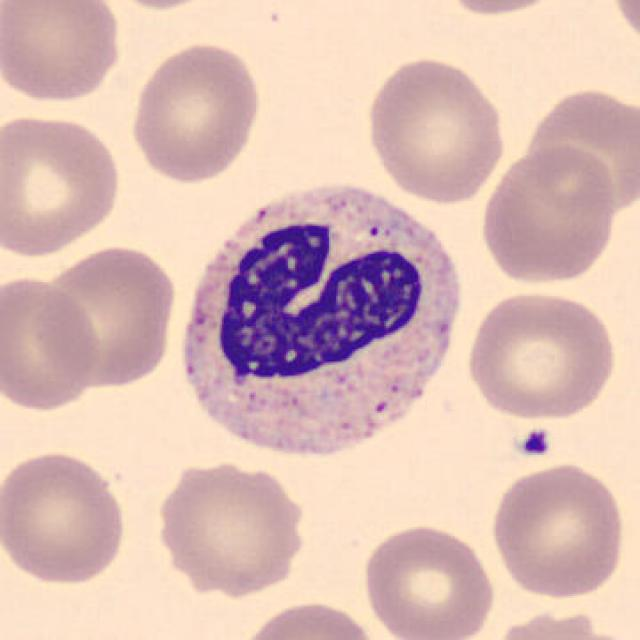Neutrophil: (165, 168, 475, 480)
Platelets: (517, 425, 553, 460)
RBC: (361, 53, 510, 204), (151, 457, 309, 598), (462, 286, 620, 423), (36, 240, 180, 390), (477, 140, 622, 288), (487, 458, 629, 602), (126, 39, 265, 185), (0, 109, 124, 260), (0, 446, 132, 587), (358, 520, 500, 640), (519, 82, 638, 218), (0, 272, 103, 414), (0, 0, 126, 108), (233, 596, 382, 640), (483, 606, 629, 640), (432, 0, 572, 18), (606, 0, 640, 55), (90, 0, 227, 12)
